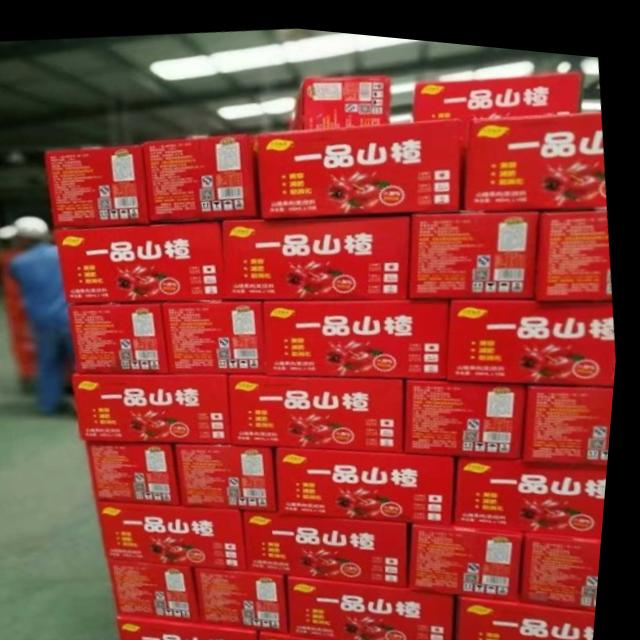box: (256, 109, 463, 213), (224, 207, 413, 295), (466, 99, 608, 202), (268, 291, 453, 370), (453, 287, 620, 373), (58, 217, 226, 302), (282, 440, 461, 516), (235, 368, 410, 444), (462, 446, 614, 527), (251, 505, 417, 578), (296, 569, 463, 640), (412, 200, 542, 290), (77, 369, 239, 439), (146, 129, 262, 218), (104, 498, 255, 565), (410, 369, 531, 448), (414, 59, 582, 113), (48, 142, 153, 225), (419, 515, 533, 590), (164, 295, 271, 370), (466, 584, 605, 640), (72, 298, 175, 371), (530, 371, 619, 453), (539, 197, 615, 289), (181, 439, 285, 505), (202, 562, 299, 628), (92, 438, 189, 502), (530, 522, 609, 598), (289, 68, 390, 125), (117, 556, 210, 617), (126, 612, 269, 640), (269, 624, 399, 640)
